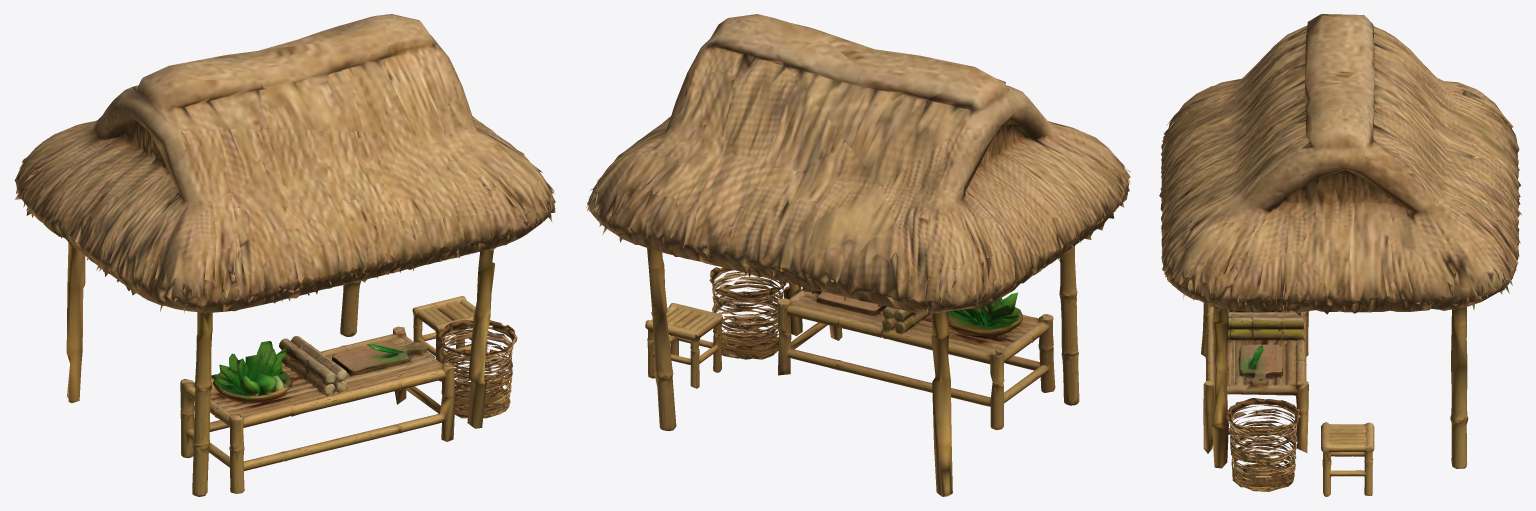
The model's file is leu-cho.046f26da.glb.
3 renders of one model, left to right at view 1: azimuth 30°, elevation 25°; view 2: azimuth 150°, elevation 25°; view 3: azimuth 270°, elevation 25°, orthographic. The views are drawn at different scales.
Parts seen in each view (by area): view 1: tripo_node_6bdf2dc5-c430-413f-9ed0-924771cb0d86; view 2: tripo_node_6bdf2dc5-c430-413f-9ed0-924771cb0d86; view 3: tripo_node_6bdf2dc5-c430-413f-9ed0-924771cb0d86.
Part boxes in pixels (<box>): tripo_node_6bdf2dc5-c430-413f-9ed0-924771cb0d86: <box>14,14,555,496</box>; tripo_node_6bdf2dc5-c430-413f-9ed0-924771cb0d86: <box>586,14,1130,496</box>; tripo_node_6bdf2dc5-c430-413f-9ed0-924771cb0d86: <box>1159,14,1521,496</box>.
Bounding box in the file's own units: 0.9765 × 0.824 × 0.7815.
Materials: 1 (1 with a texture image).
